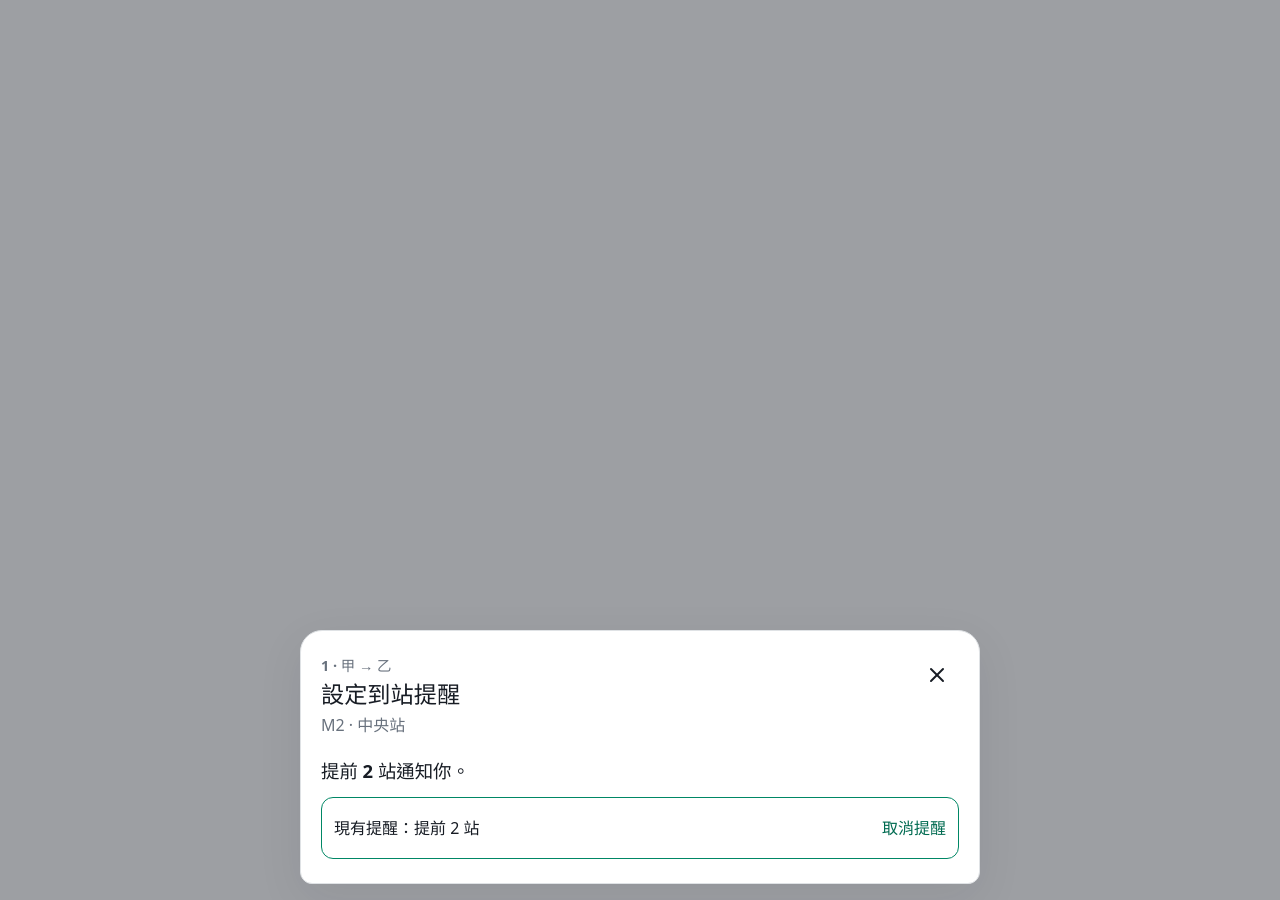
Test: ArrivalAlertSheet › lists an active reminder and allows it to be cancelled
Expected: the text "現有提醒：提前 2 站" is shown, left=334, top=816, right=480, bottom=840
Click the button "取消提醒" at (914, 828), box left=882, top=806, right=946, bottom=850
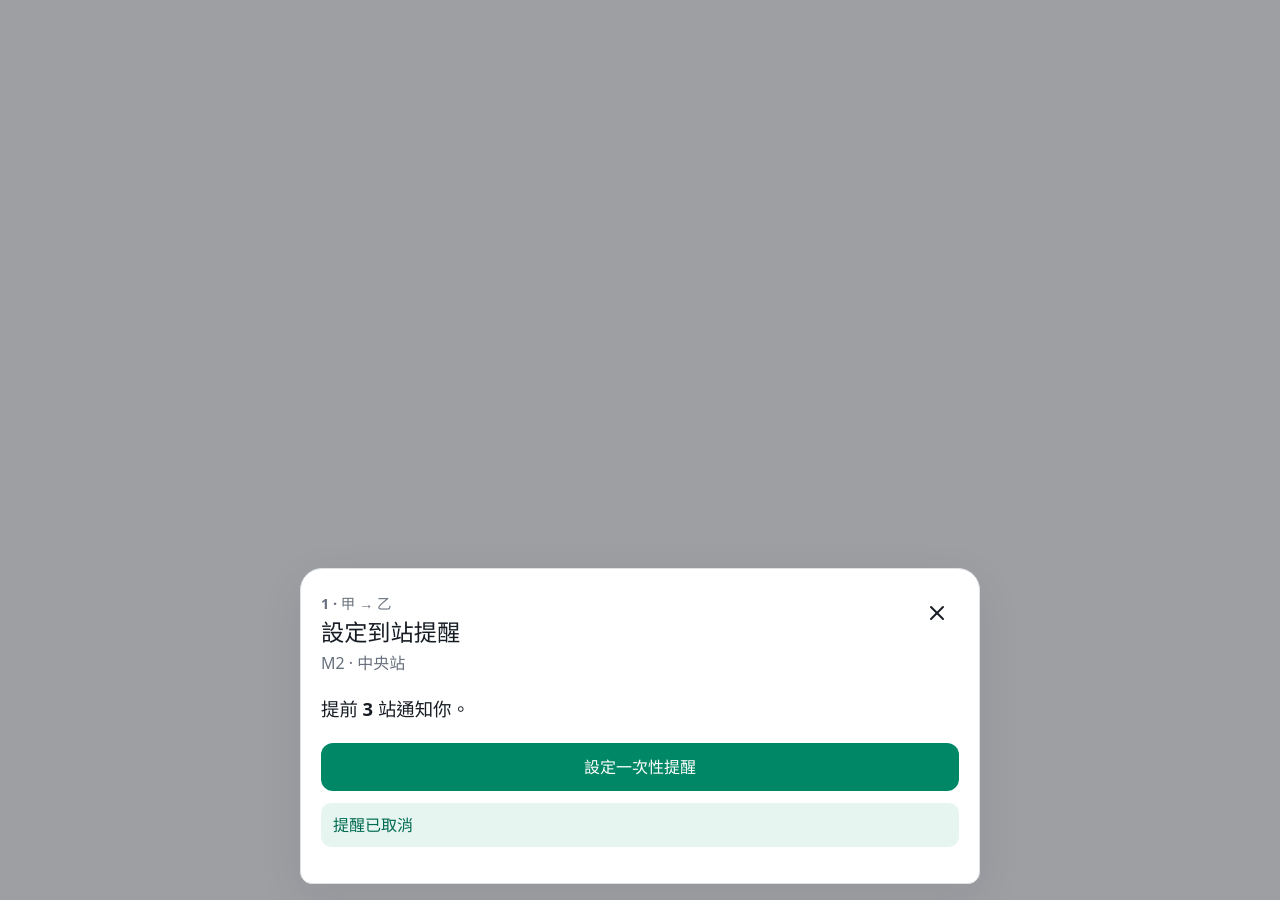
Now the text "提醒已取消" is shown, box left=321, top=803, right=959, bottom=847
